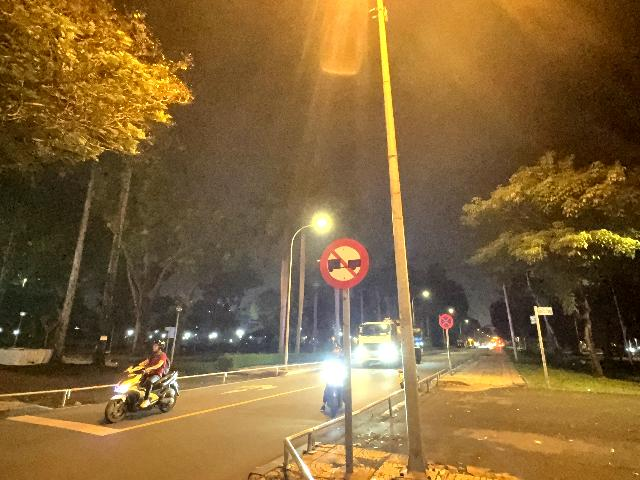cam-xe-somi-romooc: (319, 238, 370, 289)
